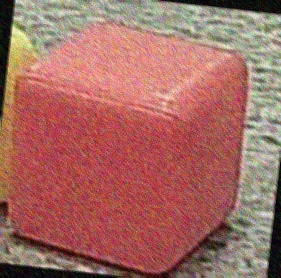orange_cube: (7, 23, 249, 277)
